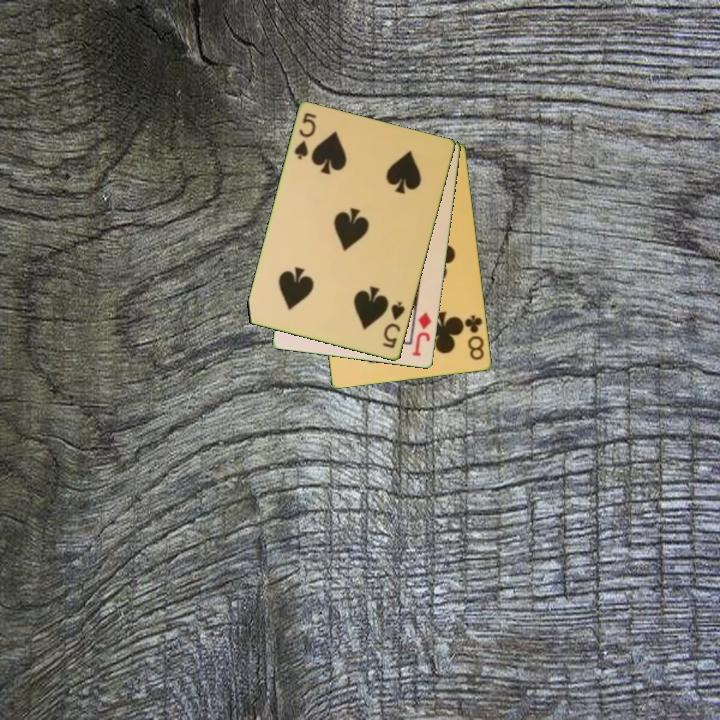5s: (379, 298, 408, 352), (291, 109, 319, 162)
8c: (462, 311, 487, 363)
Jd: (409, 309, 435, 360)
